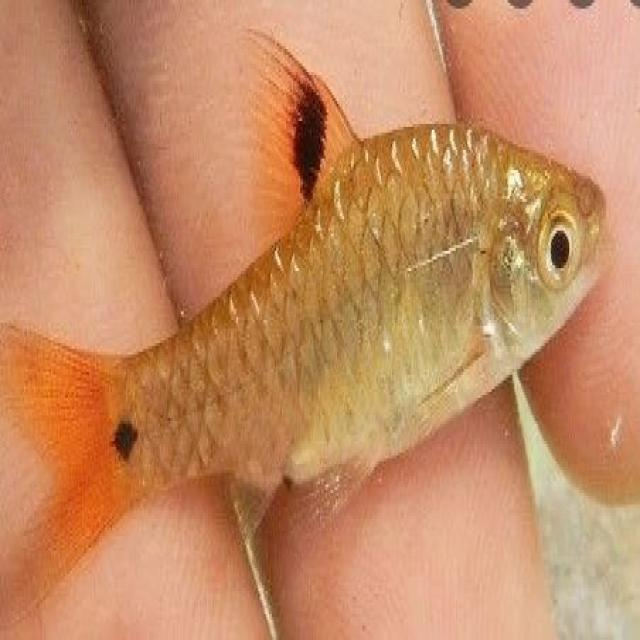Black-Spotted-Barb: (16, 30, 626, 614)
